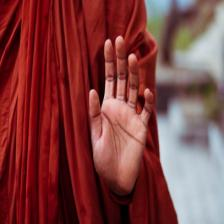five: (86, 34, 155, 196)
